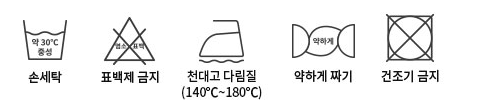KR_gentle_wring: (288, 18, 359, 61)
KR_hand_wash_30_neutral: (21, 15, 70, 64)
KR_no_chlorine_bleach: (98, 14, 158, 65)
KR_no_tumble_dry: (382, 7, 439, 64)
